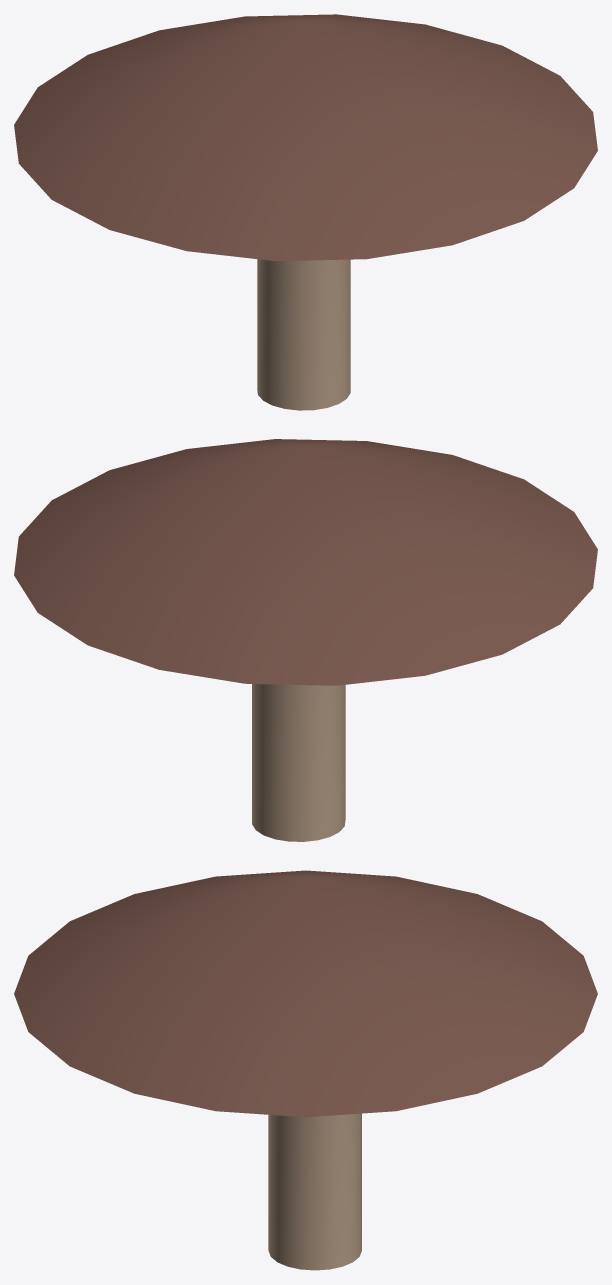
The model's file is Mushroom.fbx.
The picture shows the model from 3 angles, top to bottom: view 1: azimuth 30°, elevation 25°; view 2: azimuth 150°, elevation 25°; view 3: azimuth 270°, elevation 25°; orthographic projection.
Parts seen in each view (by area): view 1: Shroom; view 2: Shroom; view 3: Shroom.
Boxes of the visible parts, <box> form: Shroom: <box>14,14,597,410</box>; Shroom: <box>14,439,597,841</box>; Shroom: <box>14,870,597,1270</box>.
Size of the model in its own units: 116 by 81.14 by 116.
